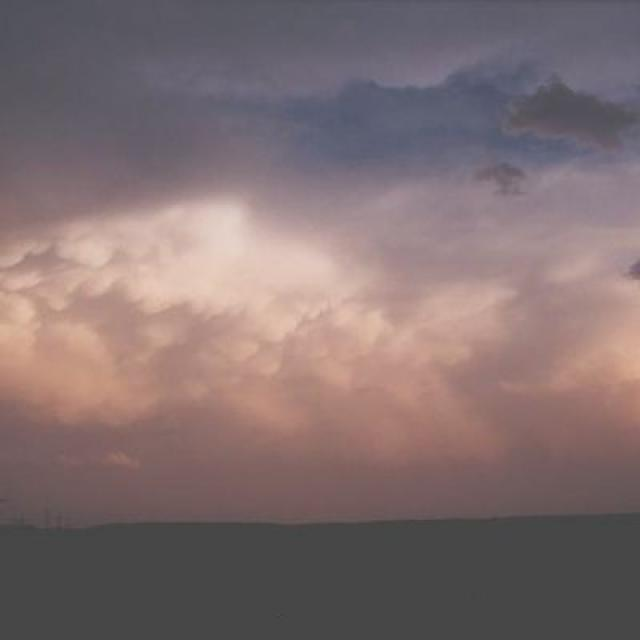Cb: (1, 50, 640, 471)
